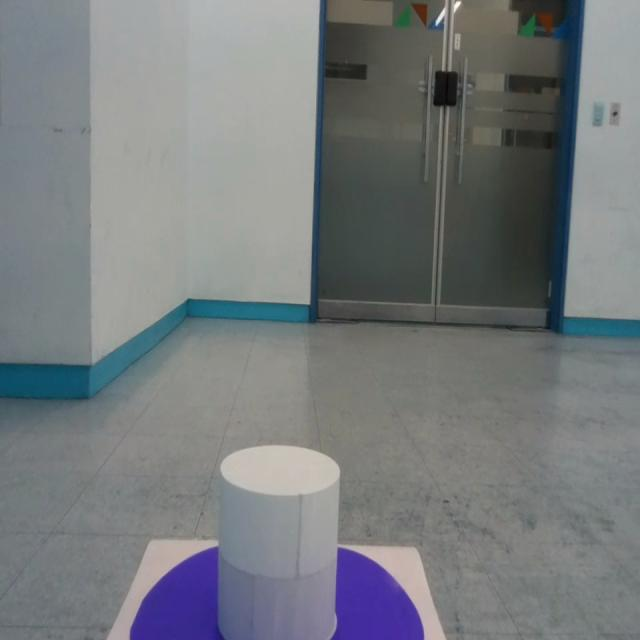cylinder: (216, 444, 341, 639)
